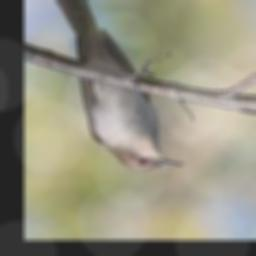Cuckoo: (45, 0, 185, 170)
